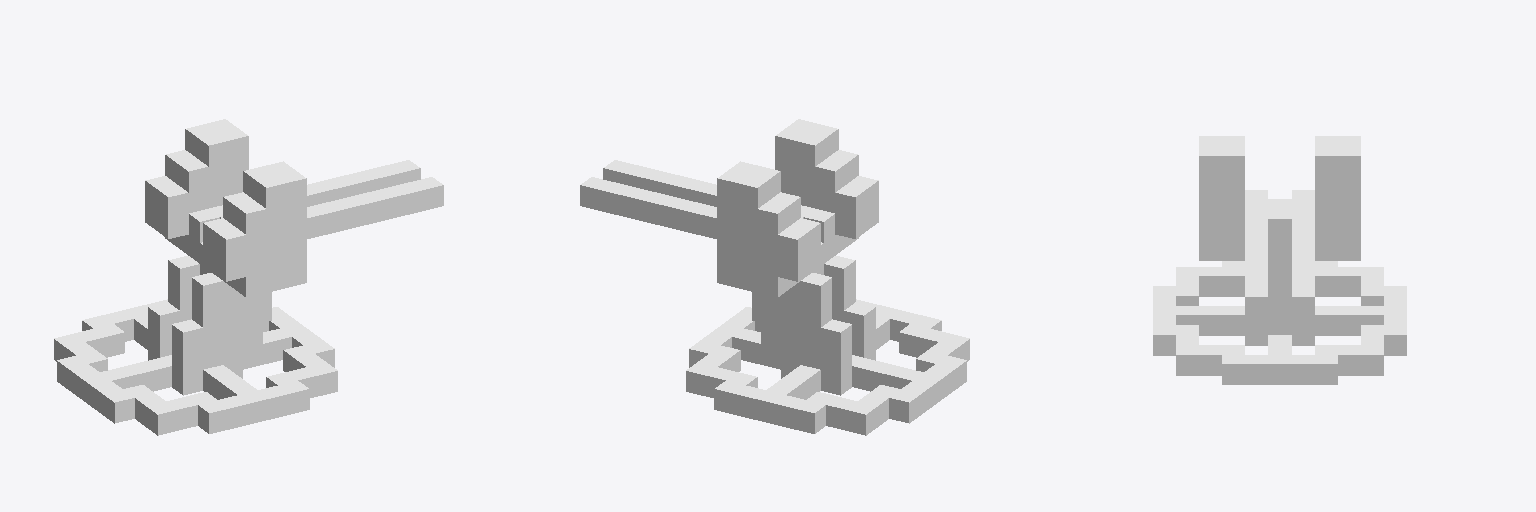
The model's file is flak36_base.obj.
3 renders of one model, left to right at view 1: azimuth 30°, elevation 25°; view 2: azimuth 150°, elevation 25°; view 3: azimuth 270°, elevation 25°, orthographic.
Parts seen in each view (by area): view 1: flak36_base; view 2: flak36_base; view 3: flak36_base.
Boxes of the visible parts, <box> form: flak36_base: <box>54,119,443,435</box>; flak36_base: <box>580,119,969,435</box>; flak36_base: <box>1153,136,1406,384</box>.
Bounding box in the file's own units: 17 × 10 × 11.